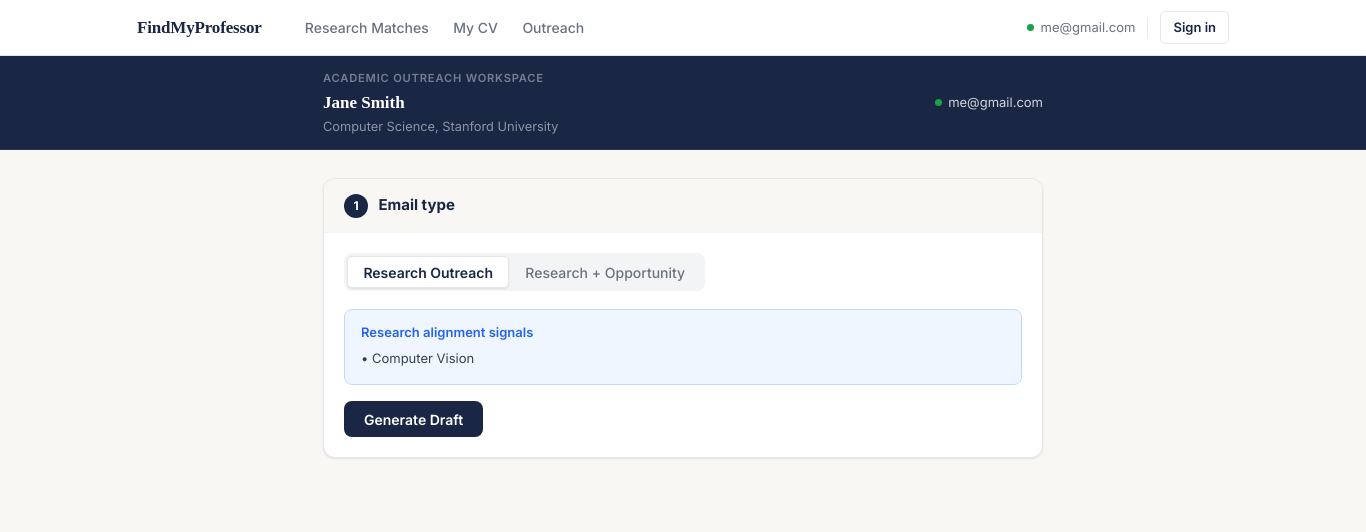
Test case: Email compose page › shows a clear error when draft generation fails
Expected: the text "Jane Smith" is shown, [323,93,405,112]
Click the button "Generate Draft" at [414, 419], box [344,401,483,437]
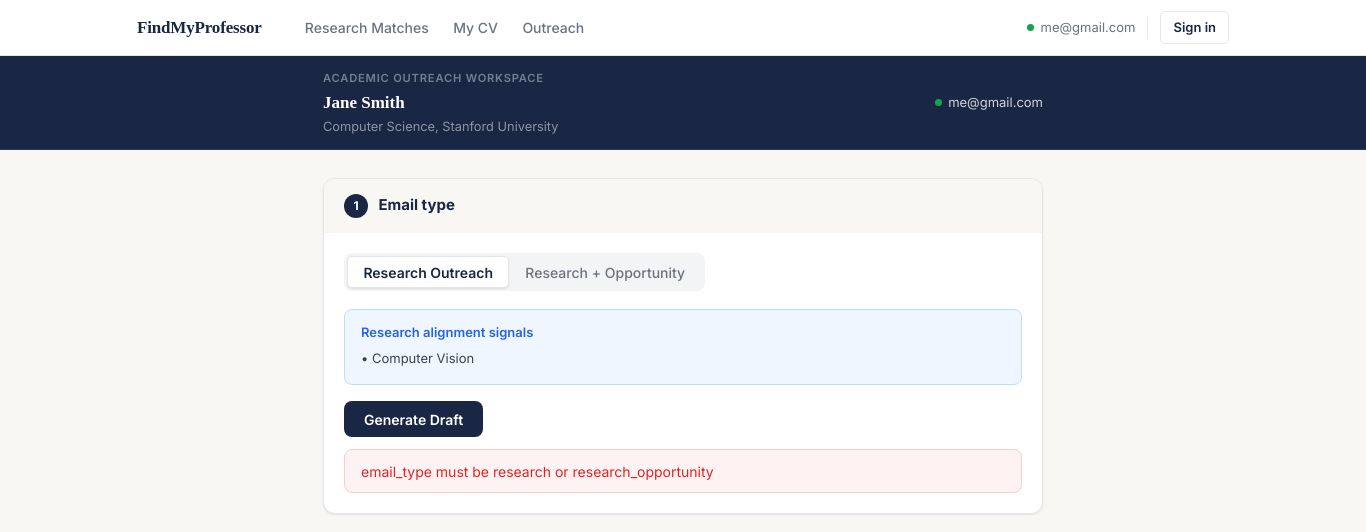
Result: the text "email_type must be research or research_opportunity" is shown at [344,449,1022,493]
